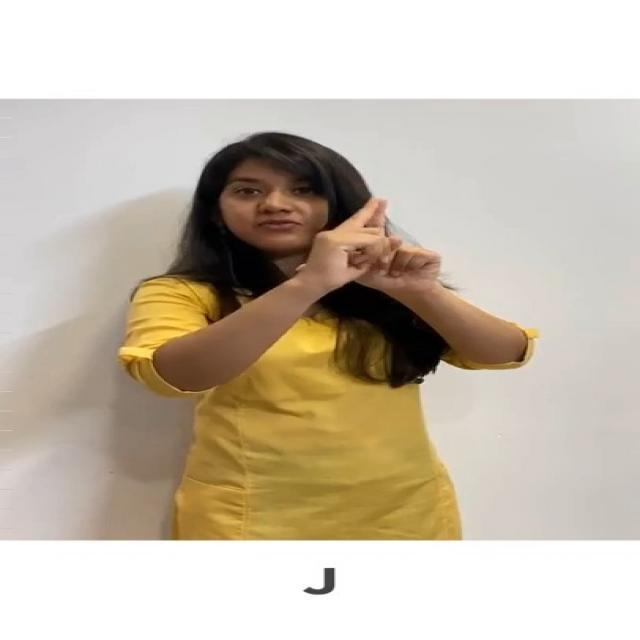J: (294, 189, 460, 307)
